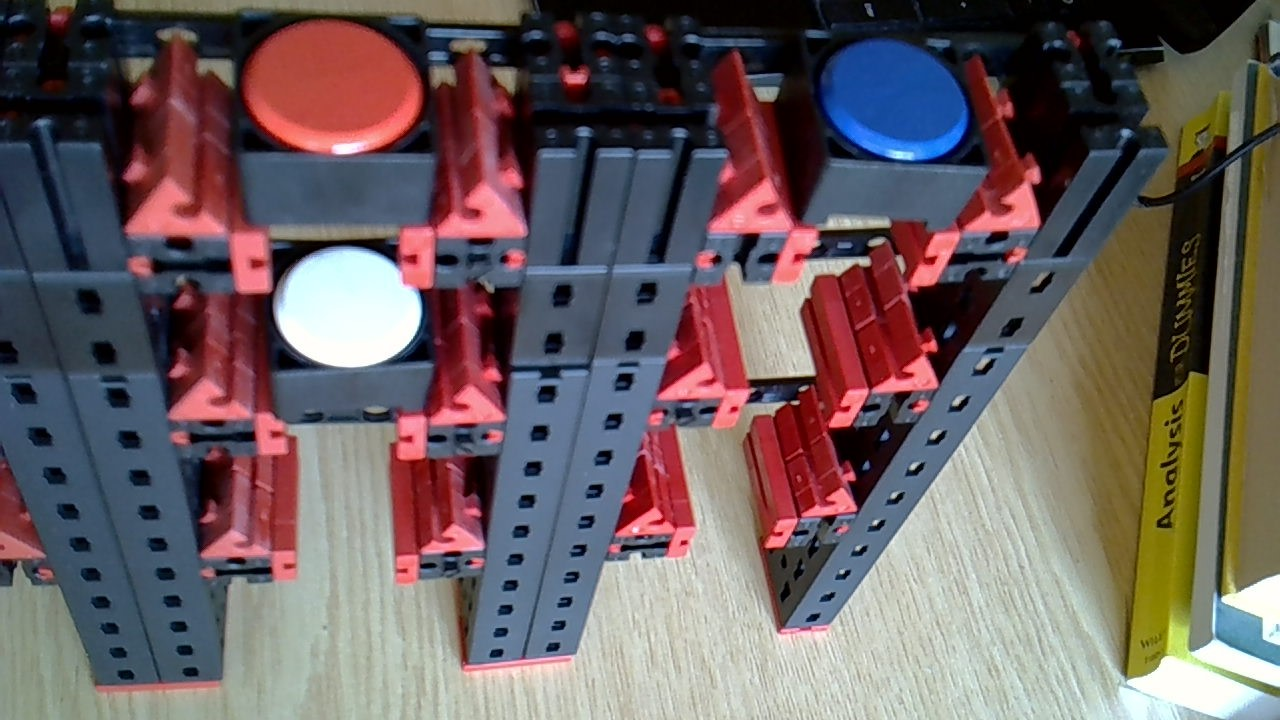Behaelter: (233, 23, 435, 223), (776, 37, 985, 224), (263, 244, 433, 413)
WerkStueck: (243, 16, 423, 157), (272, 242, 421, 370), (821, 34, 968, 160)
